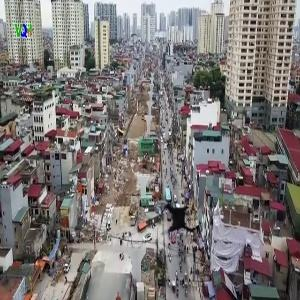drone: (149, 194, 203, 248)
